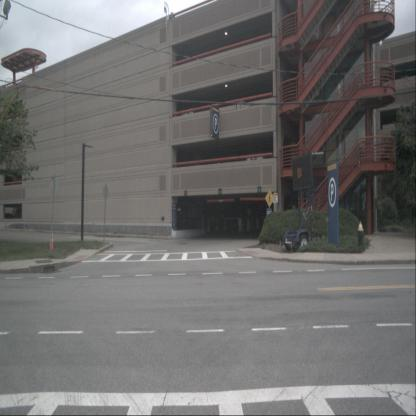cone: (47, 232, 55, 250)
